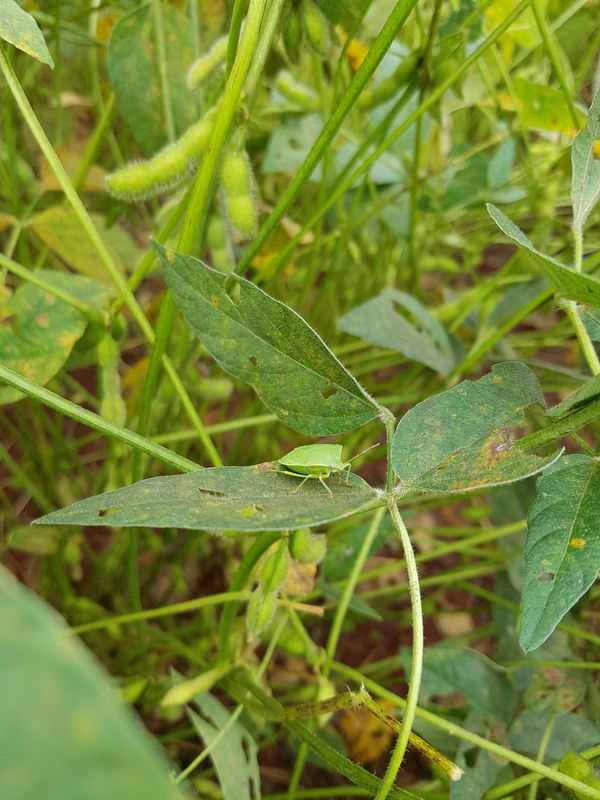Nezara_viridula_adulto: (258, 430, 388, 505)
